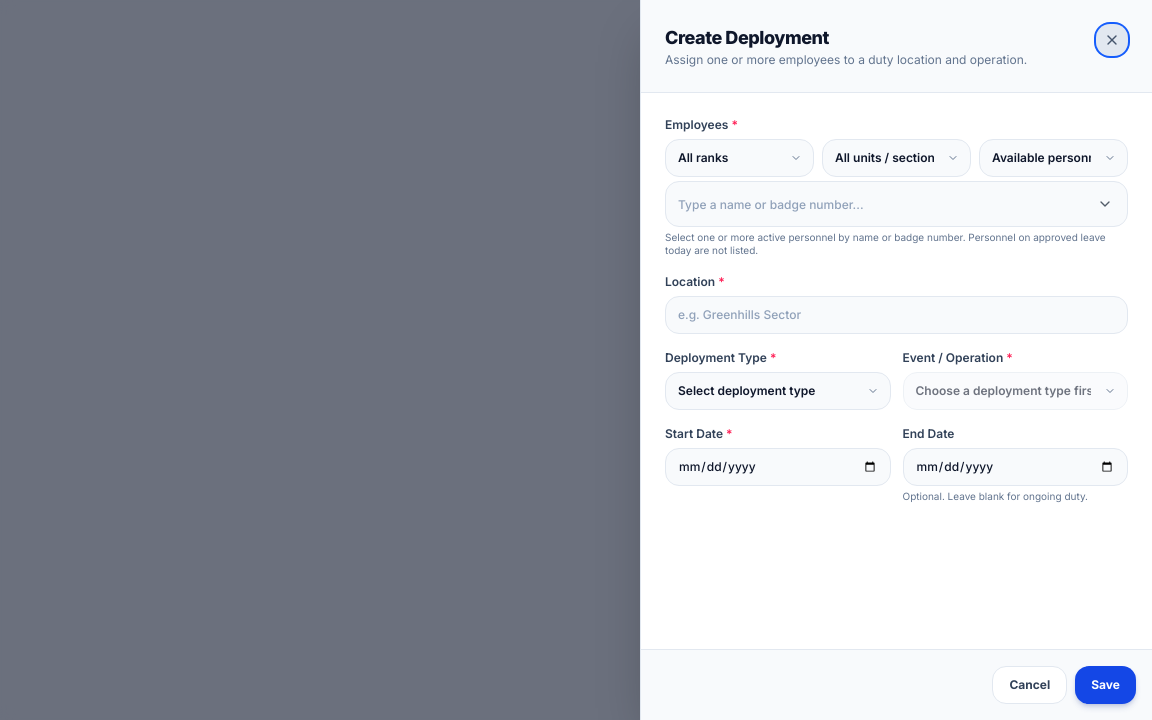
Test case: DeploymentPanel (dep.html side panel) › leaves personnel on leave out of the picker and lists them, not selectable, under On leave
The image size is (1152, 720).
Click the dropdown labelled "Employees *": click(896, 204) [666, 182, 1127, 226]
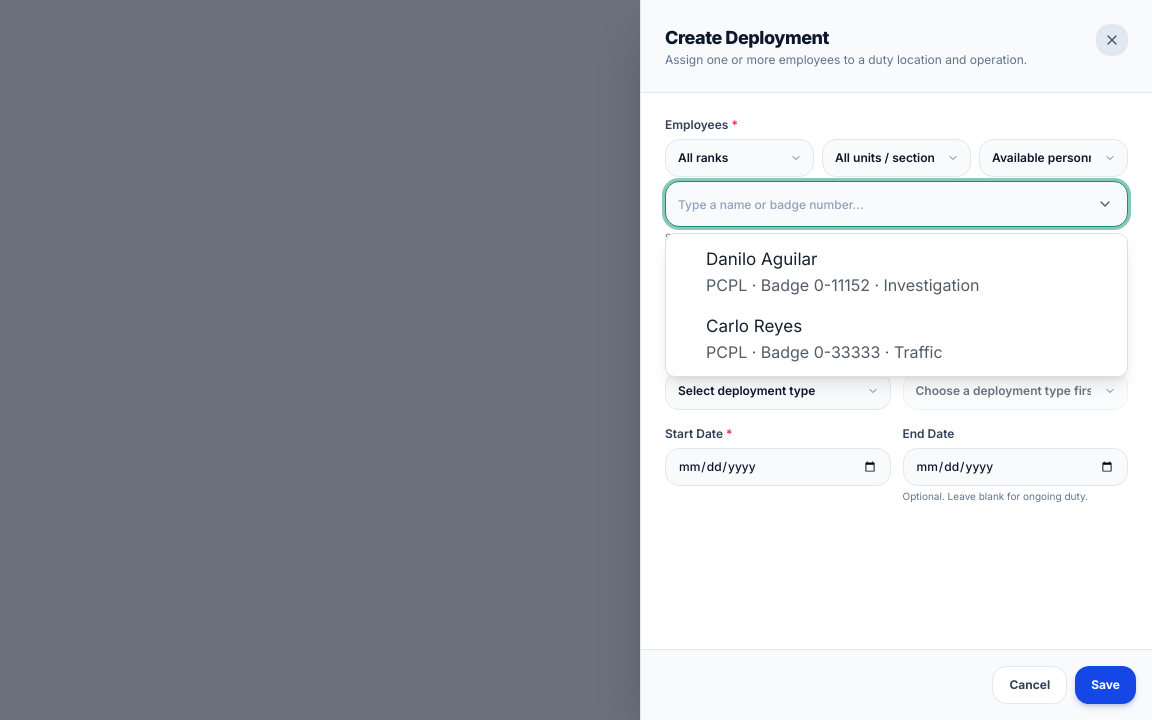
Expected: the option "Bea Santos" is not shown
Now the option "Danilo Aguilar PCPL · Badge 0-11152 · Investigation" is shown, box [706, 249, 980, 295]
Press Escape
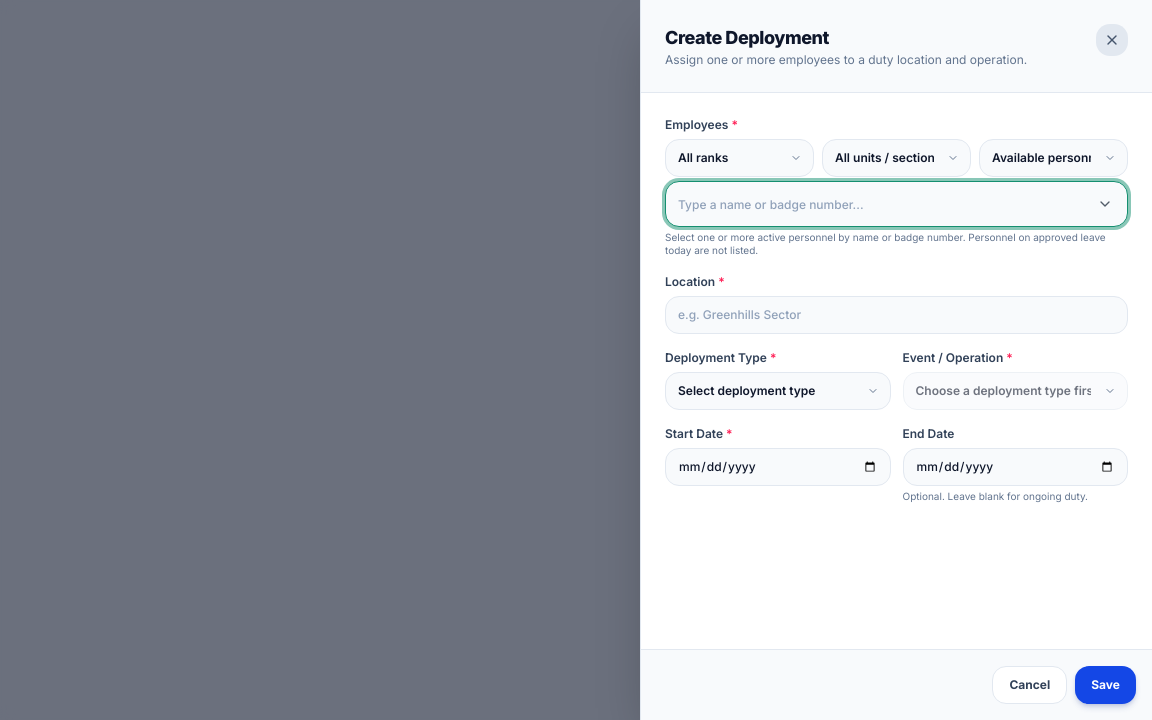
Select "On leave" in the dropdown named "Availability": (1054, 158) [979, 139, 1128, 177]
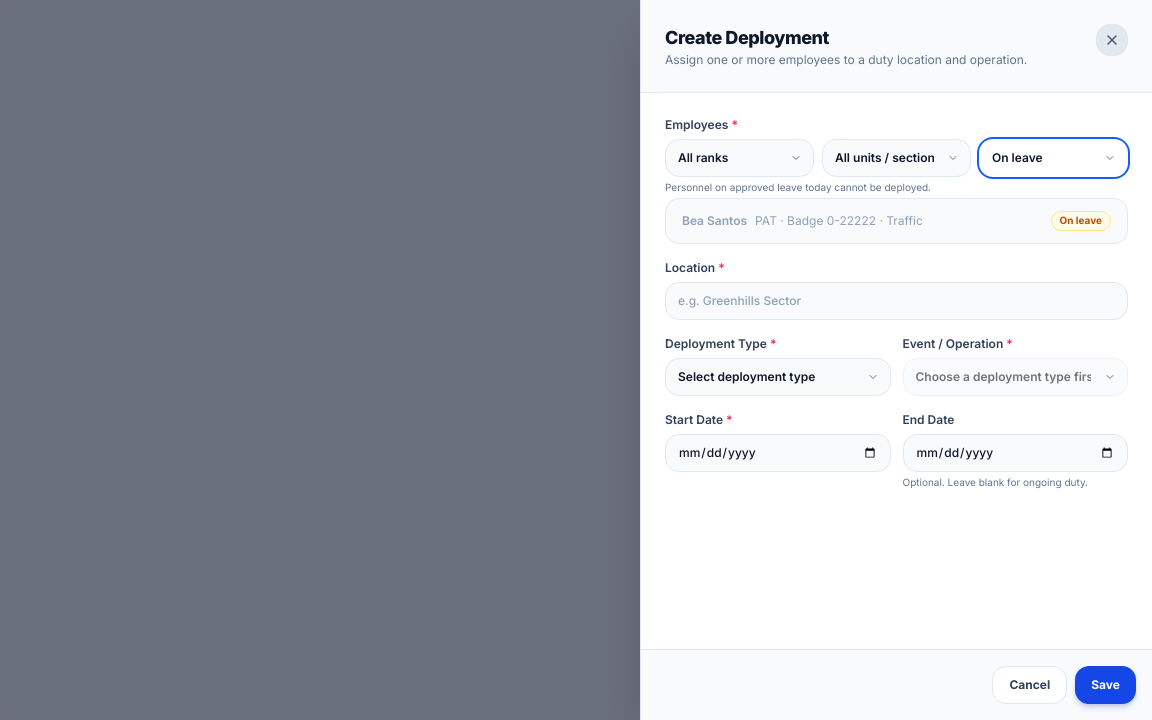
Expected: the option "Danilo Aguilar" is not shown
Now the text "Bea Santos" is shown, box [682, 213, 747, 228]
Now the text "On leave" is shown, box [1050, 211, 1111, 231]
